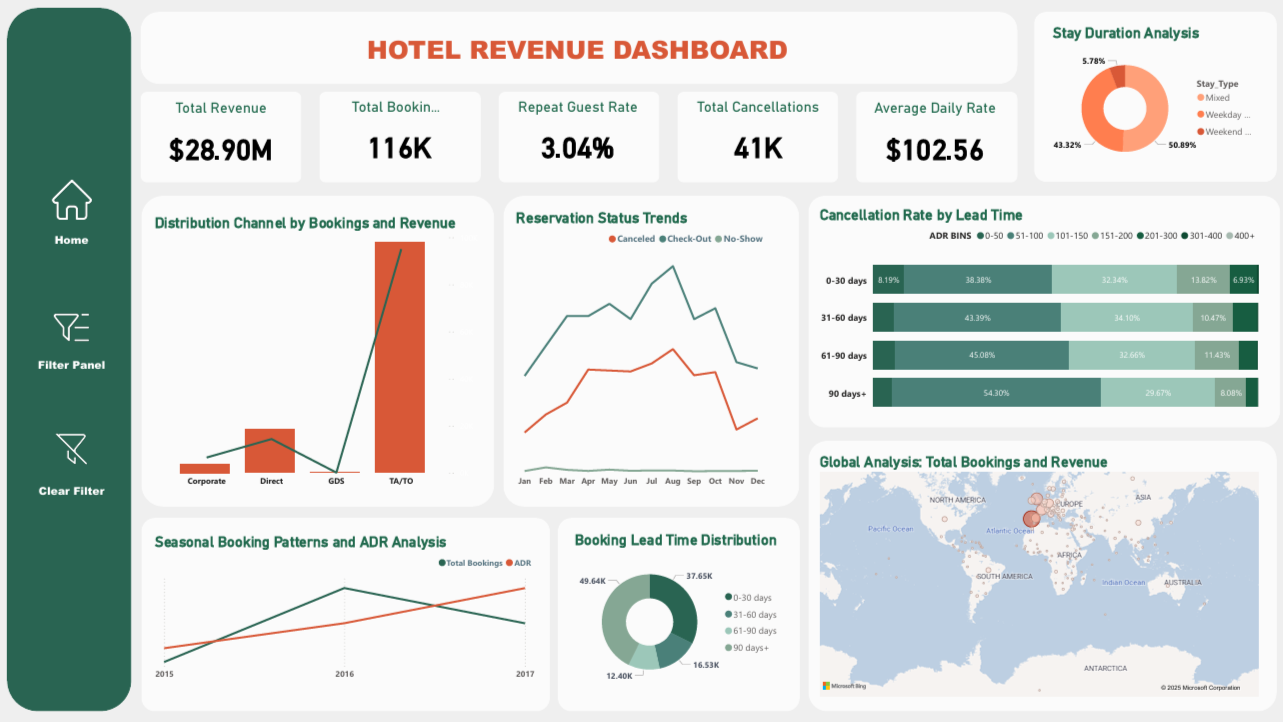

The dashboard page shown, as its layout file describes it:
{"tool":"powerbi","page":{"name":"Overview","canvas":[1920,1080],"ordinal":0},"visuals":[{"type":"shape","box":[1279.1,140.1,239.5,134.9],"z":0},{"type":"textbox","box":[65.9,343.2,90,40],"z":0,"group":"g1"},{"type":"textbox","box":[42,529.2,137.8,40],"z":0,"group":"g2"},{"type":"textbox","box":[40.9,717,140,40],"z":0,"group":"g6"},{"type":"shape","box":[214,140.1,239.5,134.9],"z":1000},{"type":"shape","box":[480.2,140.1,239.5,134.9],"z":2000},{"type":"shape","box":[746.5,140.1,239.5,134.9],"z":3000},{"type":"shape","box":[1012.8,140.1,239.5,134.9],"z":4000},{"type":"shape","box":[1544.2,20.9,360.5,253.5],"z":5000},{"type":"shape","box":[214,20.9,1304.7,107],"z":6000},{"type":"shape","box":[215,295.4,525,462.5],"z":7000},{"type":"shape","box":[215,775,607.5,287.5],"z":8000},{"type":"shape","box":[835,775,360,287.5],"z":9000},{"type":"shape","box":[15,15,185,1047.5],"z":10000},{"type":"cardVisual","title":"Total Revenue","fields":{"Data":["Sum(bookings cleaned.Total Revenue)"]},"box":[237.2,151.2,193,116.3],"z":11000},{"type":"cardVisual","title":"Total Bookings","fields":{"Data":["bookings cleaned.Total Bookings"]},"box":[523.3,148.8,151.2,116.3],"z":12000},{"type":"cardVisual","title":"Repeat Guest Rate","fields":{"Data":["bookings cleaned.Repeat Percentage"]},"box":[767.4,148.8,195.3,116.3],"z":13000},{"type":"donutChart","title":"Booking Lead Time Distribution","fields":{"Category":["bookings cleaned.Lead_Time_Range","bookings cleaned.market_segment"],"Y":["bookings cleaned.Total Bookings"]},"box":[855,795,320,250],"z":14000},{"type":"lineChart","title":"Seasonal Booking Patterns and ADR Analysis","fields":{"Y":["bookings cleaned.Total Bookings"],"Y2":["Avg(bookings cleaned.adr)"],"Category":["bookings cleaned.arrival_date.Variation.Date Hierarchy.Year","bookings cleaned.arrival_date.Variation.Date Hierarchy.Month"]},"box":[230,797.5,575,227.5],"z":15000},{"type":"donutChart","title":"Stay Duration Analysis","fields":{"Category":["bookings cleaned.Stay_Type"],"Y":["CountNonNull(bookings cleaned.stay duration)"]},"box":[1566.9,39.5,316.3,225.6],"z":16000},{"type":"cardVisual","title":"Total Cancellations","fields":{"Data":["bookings cleaned.Total Cancellations"]},"box":[1032.6,148.8,200,116.3],"z":17000},{"type":"cardVisual","title":"Average Daily Rate","fields":{"Data":["Avg(bookings cleaned.adr)"]},"box":[1300,151.2,193,116.3],"z":18000},{"type":"group","id":"g1","title":"Group 2","box":[65.9,343.2,90,40],"z":19000,"group":"g5"},{"type":"group","id":"g2","title":"Group 1","box":[42,529.2,137.8,40],"z":19000,"group":"g4"},{"type":"image","box":[75.3,266.7,71.1,68.9],"z":20000,"group":"g5"},{"type":"lineStackedColumnComboChart","title":"Distribution Channel by Bookings and Revenue","fields":{"Y2":["bookings cleaned.Total Bookings"],"Y":["Sum(bookings cleaned.Total Revenue)"],"Category":["bookings cleaned.distribution_channel","bookings cleaned.market_segment"]},"box":[230,322.5,492.5,415],"z":21000},{"type":"textbox","title":"HOTEL REVENUE DASHBOARD","box":[532.6,48.8,662.8,60.5],"z":22000},{"type":"image","box":[70.9,451,80,80],"z":22000,"group":"g4"},{"type":"image","box":[75.9,637,70,70],"z":22000,"group":"g3"},{"type":"shape","box":[1207.5,295,702.5,345],"z":23000},{"type":"shape","box":[1207.5,660,697.5,402.5],"z":24000},{"type":"shape","box":[753.8,295,440,462.5],"z":25000},{"type":"lineChart","title":"Reservation Status Trends","fields":{"Category":["bookings cleaned.ShortMonthName"],"Series":["bookings cleaned.reservation_status"],"Y":["CountNonNull(bookings cleaned.reservation_status)"]},"box":[767.5,315,382.5,422.5],"z":26000},{"type":"map","title":"Global Analysis: Total Bookings and Revenue","fields":{"Category":["bookings cleaned.country"],"Size":["Sum(bookings cleaned.Total Revenue)"]},"box":[1220,677.5,662.5,367.5],"z":27000},{"type":"hundredPercentStackedBarChart","title":"Cancellation Rate by Lead Time","fields":{"Category":["bookings cleaned.Lead_Time_Range"],"Y":["Divide(Sum(bookings cleaned.Cancellation Rate (%)), ScopedEval(Sum(bookings cleaned.Cancellation Rate (%)), []))"],"Series":["bookings cleaned.ADR_Bins"]},"box":[1220,310,662.5,330],"z":28000},{"type":"group","id":"g3","title":"Group 5","box":[40.9,637,140,120],"z":32000},{"type":"group","id":"g4","title":"Group 6","box":[42,451,137.8,118.2],"z":33000},{"type":"group","id":"g5","title":"Group 7","box":[65.9,266.7,90,116.5],"z":33001},{"type":"group","id":"g6","title":"Group 3","box":[40.9,717,140,40],"z":35000,"group":"g3"}]}

Visuals, with their boxes on the page's 1920x1080 design canvas (x1, y1, x2, y2). These are canvas units, not pixel positions in the 1283x722 screenshot, which may show the page scaled, cropped or inside an application window:
shape: l=1279, t=140, r=1519, b=275
textbox: l=66, t=343, r=156, b=383
textbox: l=42, t=529, r=180, b=569
textbox: l=41, t=717, r=181, b=757
shape: l=214, t=140, r=454, b=275
shape: l=480, t=140, r=720, b=275
shape: l=746, t=140, r=986, b=275
shape: l=1013, t=140, r=1252, b=275
shape: l=1544, t=21, r=1905, b=274
shape: l=214, t=21, r=1519, b=128
shape: l=215, t=295, r=740, b=758
shape: l=215, t=775, r=822, b=1062
shape: l=835, t=775, r=1195, b=1062
shape: l=15, t=15, r=200, b=1062
"Total Revenue" cardVisual: l=237, t=151, r=430, b=268
"Total Bookings" cardVisual: l=523, t=149, r=674, b=265
"Repeat Guest Rate" cardVisual: l=767, t=149, r=963, b=265
"Booking Lead Time Distribution" donutChart: l=855, t=795, r=1175, b=1045
"Seasonal Booking Patterns and ADR Analysis" lineChart: l=230, t=798, r=805, b=1025
"Stay Duration Analysis" donutChart: l=1567, t=40, r=1883, b=265
"Total Cancellations" cardVisual: l=1033, t=149, r=1233, b=265
"Average Daily Rate" cardVisual: l=1300, t=151, r=1493, b=268
"Group 2" group: l=66, t=343, r=156, b=383
"Group 1" group: l=42, t=529, r=180, b=569
image: l=75, t=267, r=146, b=336
"Distribution Channel by Bookings and Revenue" lineStackedColumnComboChart: l=230, t=322, r=722, b=738
"HOTEL REVENUE DASHBOARD" textbox: l=533, t=49, r=1195, b=109
image: l=71, t=451, r=151, b=531
image: l=76, t=637, r=146, b=707
shape: l=1208, t=295, r=1910, b=640
shape: l=1208, t=660, r=1905, b=1062
shape: l=754, t=295, r=1194, b=758
"Reservation Status Trends" lineChart: l=768, t=315, r=1150, b=738
"Global Analysis: Total Bookings and Revenue" map: l=1220, t=678, r=1882, b=1045
"Cancellation Rate by Lead Time" hundredPercentStackedBarChart: l=1220, t=310, r=1882, b=640
"Group 5" group: l=41, t=637, r=181, b=757
"Group 6" group: l=42, t=451, r=180, b=569
"Group 7" group: l=66, t=267, r=156, b=383
"Group 3" group: l=41, t=717, r=181, b=757
